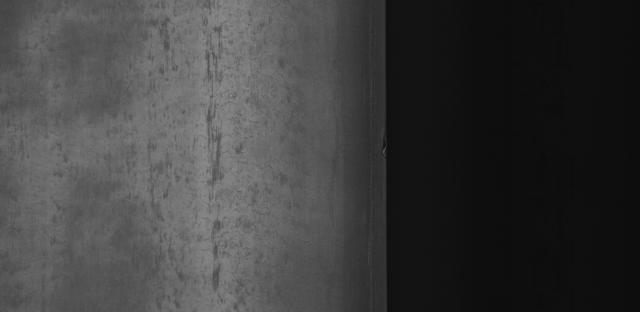silk_spot: (121, 124, 241, 216), (194, 220, 270, 311), (177, 14, 242, 100)
